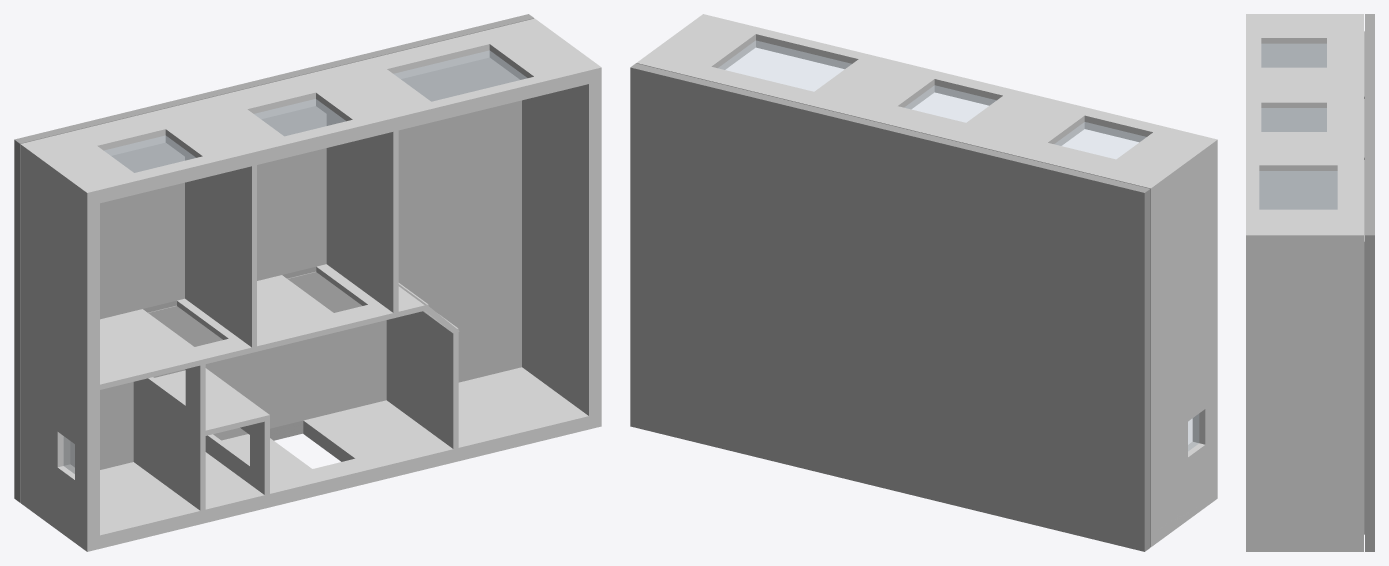
Rendered from b0301-raw-cm-zup.glb.
3 renders of one model, left to right at view 1: azimuth 30°, elevation 25°; view 2: azimuth 150°, elevation 25°; view 3: azimuth 270°, elevation 25°, orthographic. The views are drawn at different scales.
Parts seen in each view (by area): view 1: Mesh.037, Mesh.004, Mesh.015, Mesh.003, Mesh.040, Mesh.001, Mesh.038, Mesh.025, Mesh.024, Mesh.039, Mesh.033, Mesh.026 (+27 smaller); view 2: Mesh.043, Mesh.015, Mesh.011, Mesh.008, Mesh.014, Mesh.005, Mesh.018, Mesh.044, Mesh.007, Mesh.045, Mesh.046, Mesh.006 (+7 smaller); view 3: Mesh.004, Mesh.043, Mesh.011, Mesh.008, Mesh.005, Mesh.014, Mesh.044, Mesh.025, Mesh.045, Mesh.046, Mesh.003, Mesh.015 (+8 smaller).
Part boxes in pixels (bbox=[...]): Mesh.037: bbox=[345, 57, 521, 386]; Mesh.004: bbox=[522, 18, 601, 428]; Mesh.015: bbox=[20, 141, 99, 453]; Mesh.003: bbox=[303, 367, 601, 482]; Mesh.040: bbox=[148, 271, 386, 440]; Mesh.001: bbox=[20, 434, 327, 551]; Mesh.038: bbox=[100, 142, 184, 319]; Mesh.025: bbox=[326, 114, 398, 316]; Mesh.024: bbox=[185, 157, 256, 352]; Mesh.039: bbox=[257, 106, 326, 280]; Mesh.033: bbox=[386, 311, 458, 448]; Mesh.026: bbox=[133, 377, 205, 510]; Mesh.043: bbox=[630, 63, 1150, 551]; Mesh.015: bbox=[1139, 138, 1217, 448]; Mesh.011: bbox=[945, 89, 1092, 158]; Mesh.008: bbox=[799, 54, 942, 121]; Mesh.014: bbox=[1095, 126, 1217, 201]; Mesh.005: bbox=[637, 14, 762, 77]; Mesh.018: bbox=[1150, 436, 1217, 546]; Mesh.044: bbox=[718, 40, 851, 91]; Mesh.007: bbox=[756, 28, 865, 68]; Mesh.045: bbox=[904, 85, 995, 122]; Mesh.046: bbox=[1055, 122, 1145, 158]; Mesh.006: bbox=[696, 66, 813, 102]; Mesh.004: bbox=[1246, 230, 1363, 551]; Mesh.043: bbox=[1365, 14, 1374, 551]; Mesh.011: bbox=[1246, 67, 1363, 114]; Mesh.008: bbox=[1246, 132, 1363, 177]; Mesh.005: bbox=[1246, 209, 1363, 247]; Mesh.014: bbox=[1246, 14, 1363, 49]; Mesh.044: bbox=[1259, 171, 1337, 209]; Mesh.025: bbox=[1259, 177, 1337, 209]; Mesh.045: bbox=[1261, 108, 1326, 131]; Mesh.046: bbox=[1261, 44, 1326, 67]; Mesh.003: bbox=[1246, 540, 1363, 551]; Mesh.015: bbox=[1246, 14, 1363, 67].
Bounding box in the file's own units: 1200 × 800 × 295.
